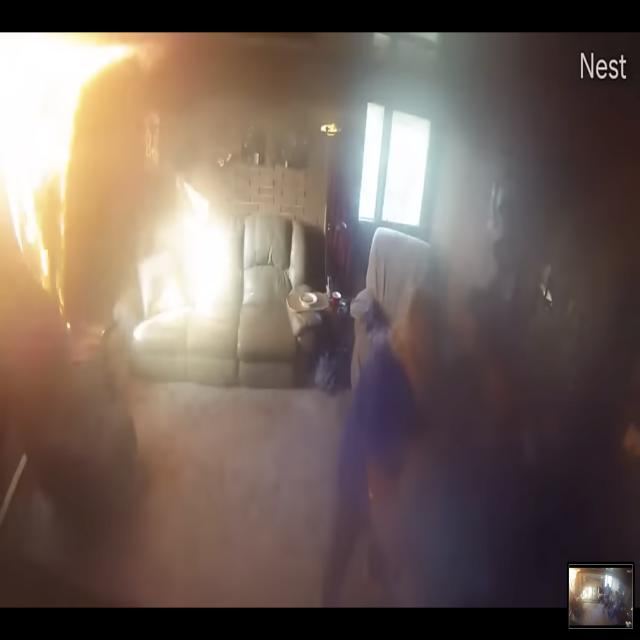Fogo: (3, 36, 168, 365)
